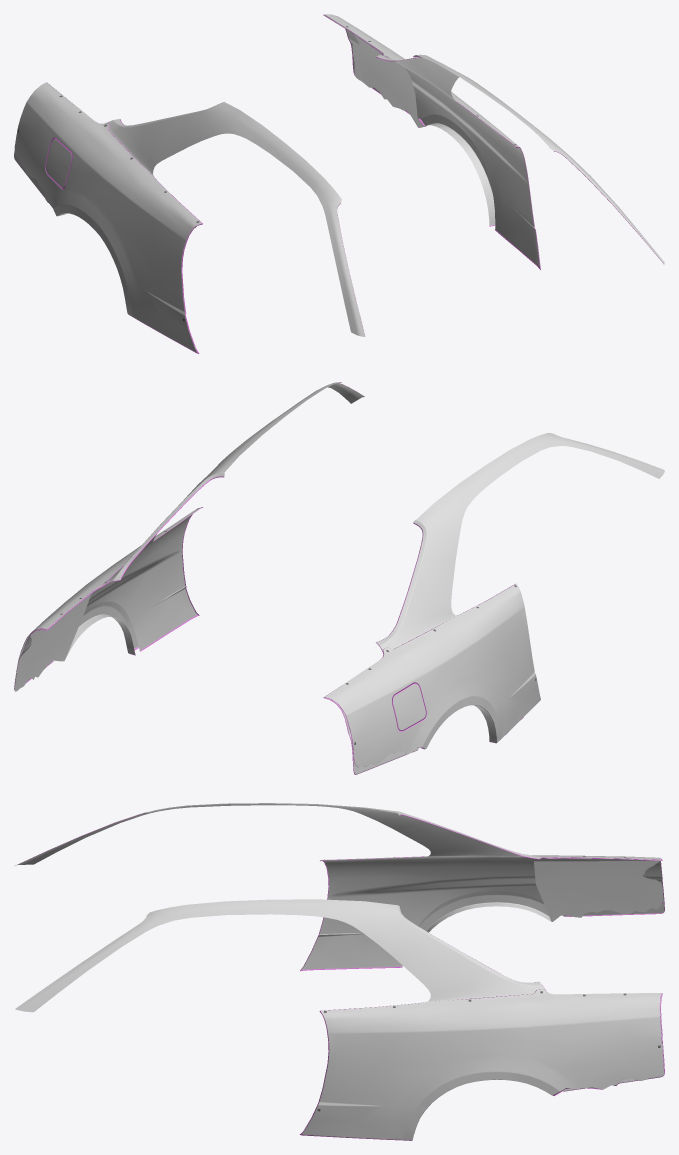
File: Car_Nissan_SkylineGTRVspecR34_1999_FendersR_SetE.fbx
3 renders of one model, top to bottom at view 1: azimuth 30°, elevation 25°; view 2: azimuth 150°, elevation 25°; view 3: azimuth 270°, elevation 25°, orthographic.
Parts seen in each view (by area): view 1: FendersR 6; view 2: FendersR 6; view 3: FendersR 6.
Part boxes in pixels (box(x1,y1,x2,y2)): FendersR 6: box(14, 14, 664, 353); FendersR 6: box(14, 382, 664, 774); FendersR 6: box(15, 803, 664, 1140).
Size of the model in its own units: 1.8 by 0.9508 by 2.79.
